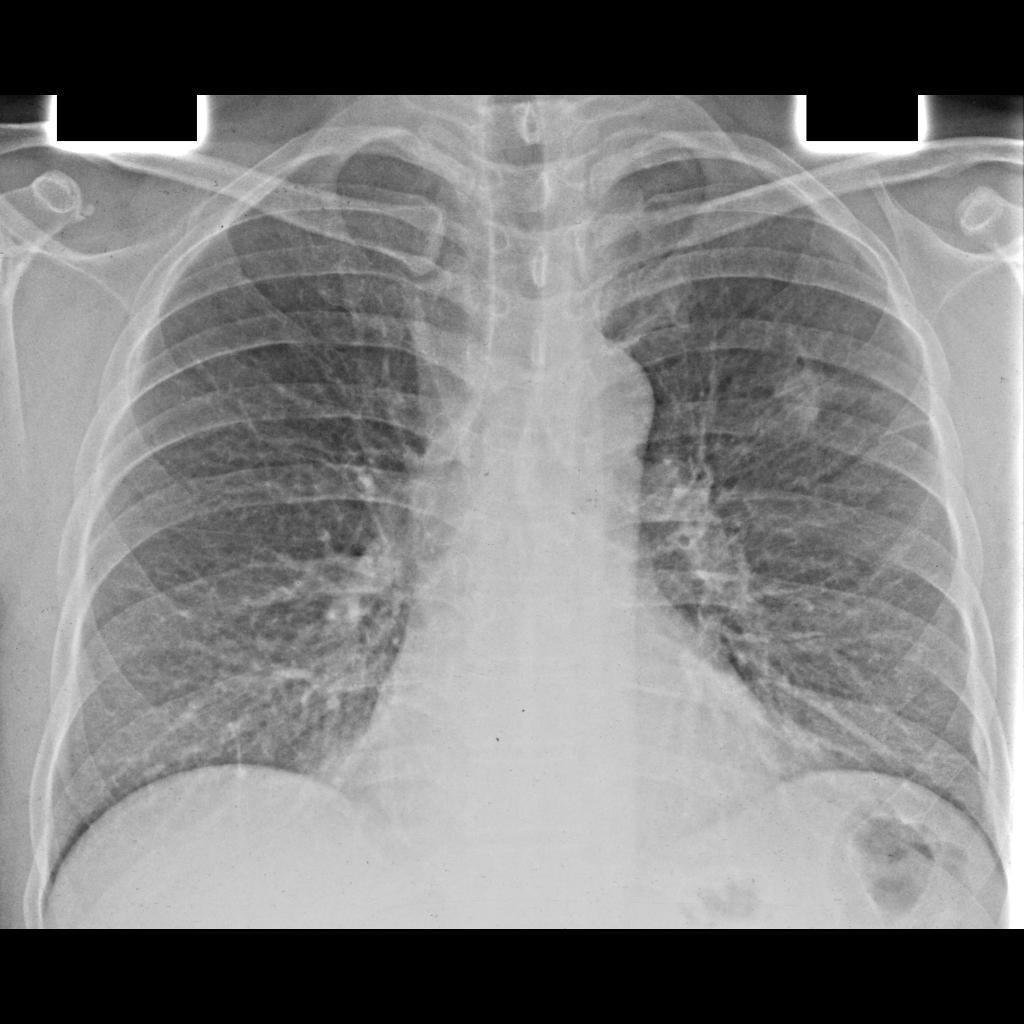Nodule: (781, 370, 829, 418)
